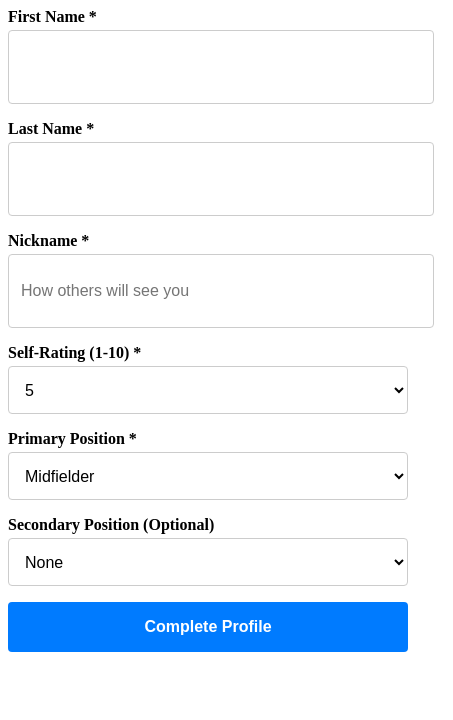
Test case: ProfileForm › validates required fields
The image size is (453, 720).
Step 1. Click the button "Complete Profile" → (208, 627), box [8, 602, 408, 652]
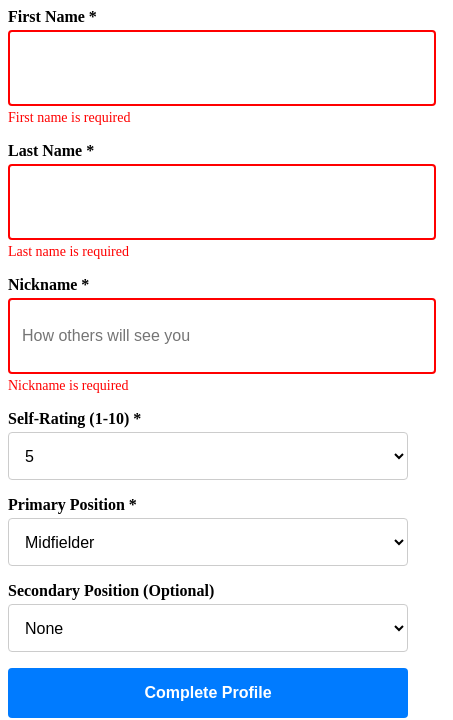
Result: the text "First name is required" is shown at [8, 110, 130, 125]
Result: the text "Last name is required" is shown at [8, 244, 129, 259]
Result: the text "Nickname is required" is shown at [8, 378, 128, 393]
